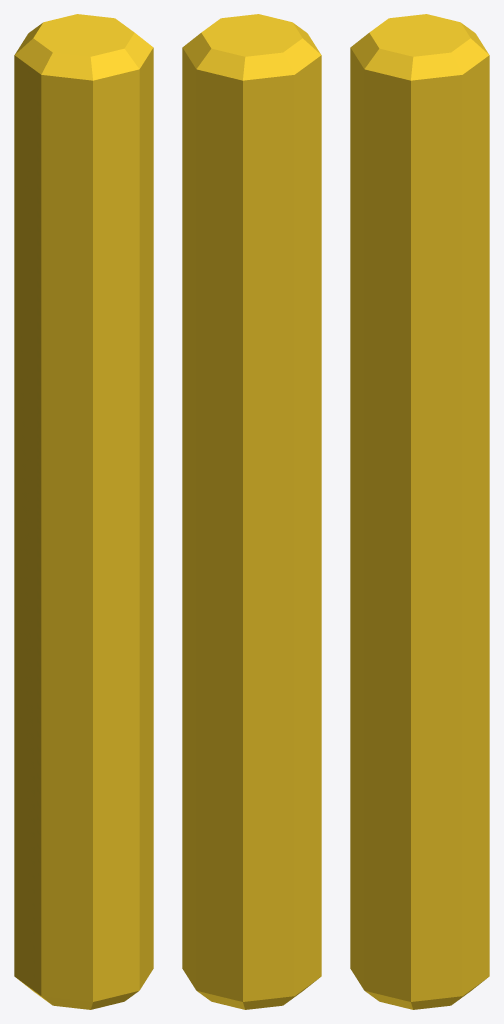
Rendered from Spacer30.fbx.
3 views of the same model, side by side, from view 1: azimuth 30°, elevation 25°; view 2: azimuth 150°, elevation 25°; view 3: azimuth 330°, elevation 25° (orthographic).
Parts seen in each view (by area): view 1: Spacer30; view 2: Spacer30; view 3: Spacer30.
Boxes of the visible parts, box(x1,y1,x2,y2) form: Spacer30: box(14, 14, 153, 1009); Spacer30: box(182, 14, 321, 1009); Spacer30: box(350, 14, 489, 1009).
Size of the model in its own units: 0.3696 by 3 by 0.3696.
